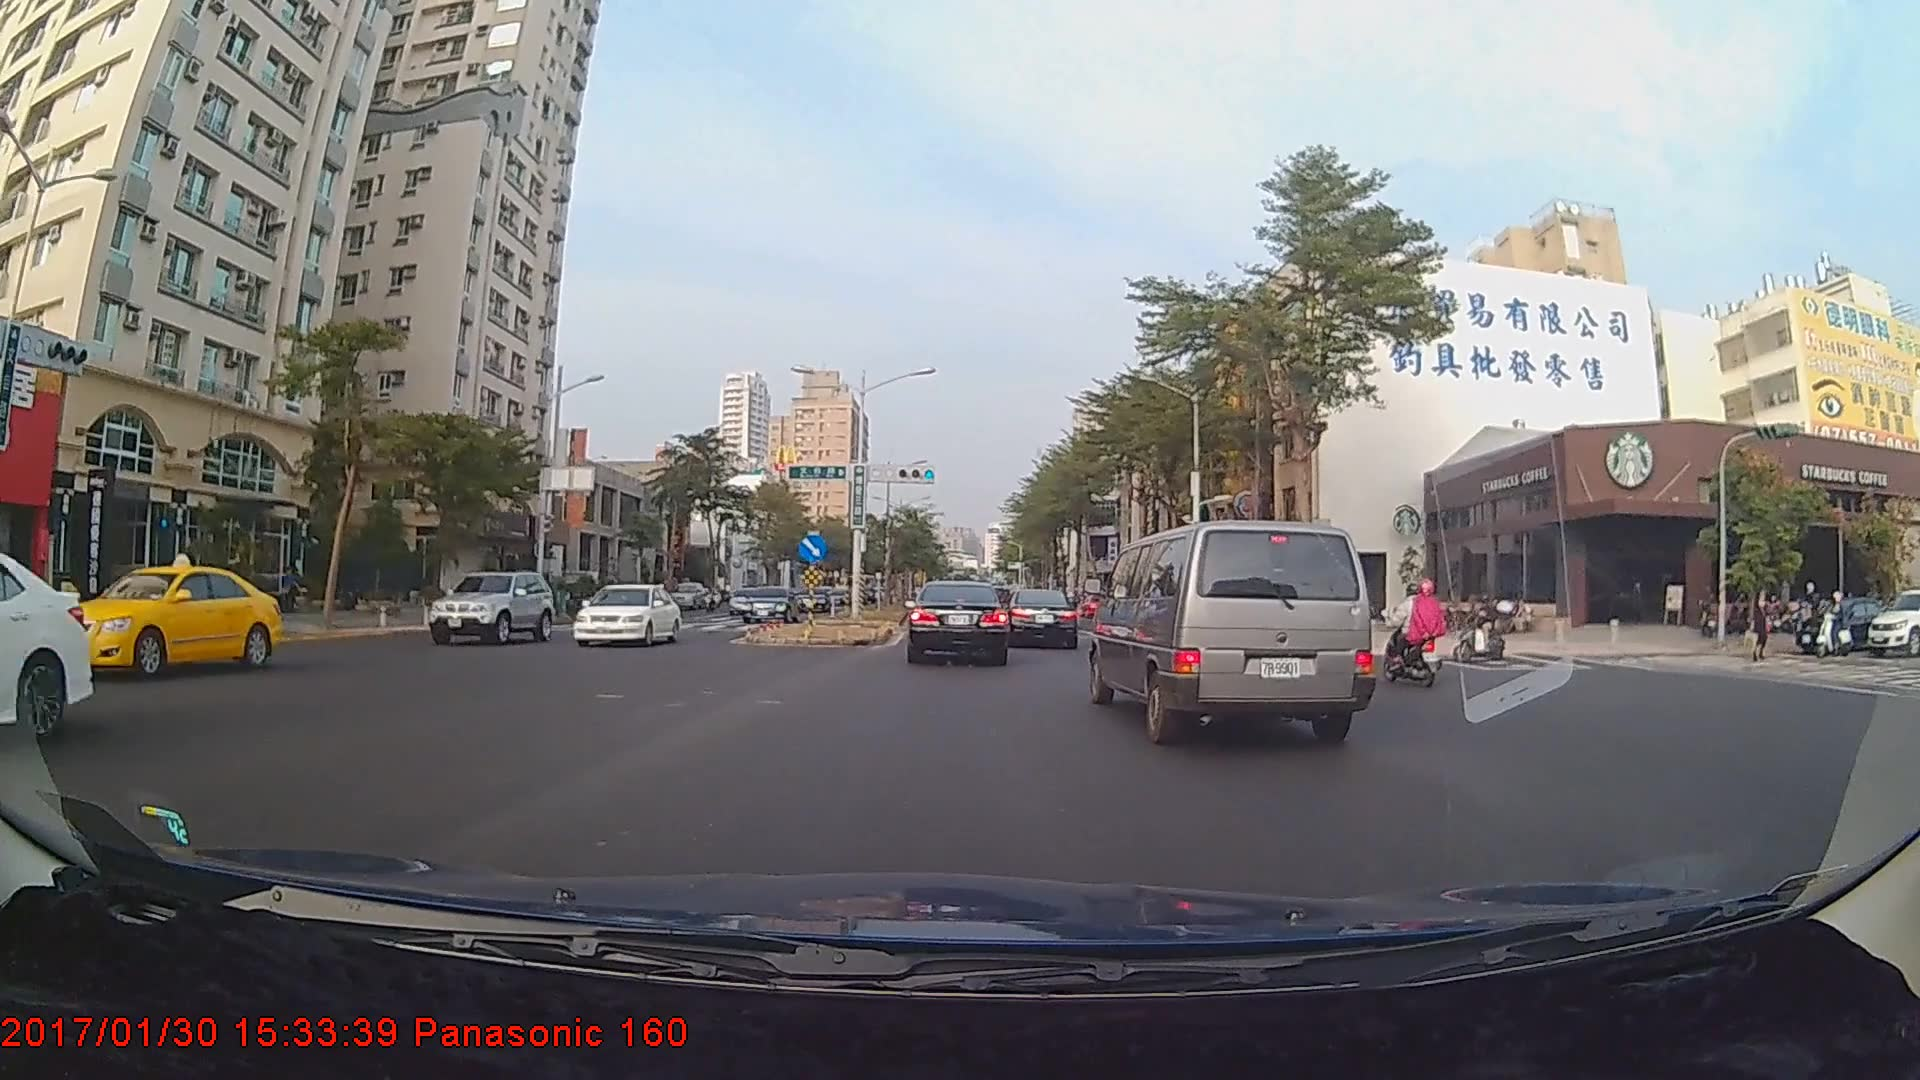pedestrian: (1750, 588, 1770, 660)
rider: (1381, 571, 1456, 680), (1813, 587, 1857, 659)
vehicle: (1098, 512, 1370, 743), (49, 566, 280, 676), (0, 547, 93, 761), (420, 567, 548, 646), (908, 580, 1009, 665), (569, 581, 684, 646), (1007, 586, 1079, 647), (737, 584, 800, 624)
